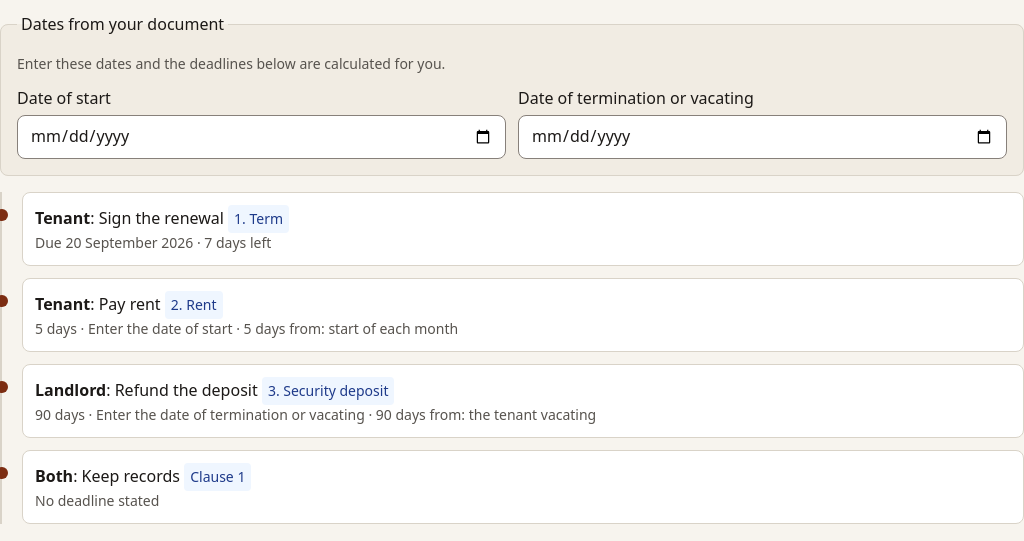
Test: Timeline › asks for anchor dates, computes deadlines once entered, and orders items
In the date field labelled "Date of termination or vacating": (762, 137) x1=518 y1=115 x2=1007 y2=159, type "2026-09-01"
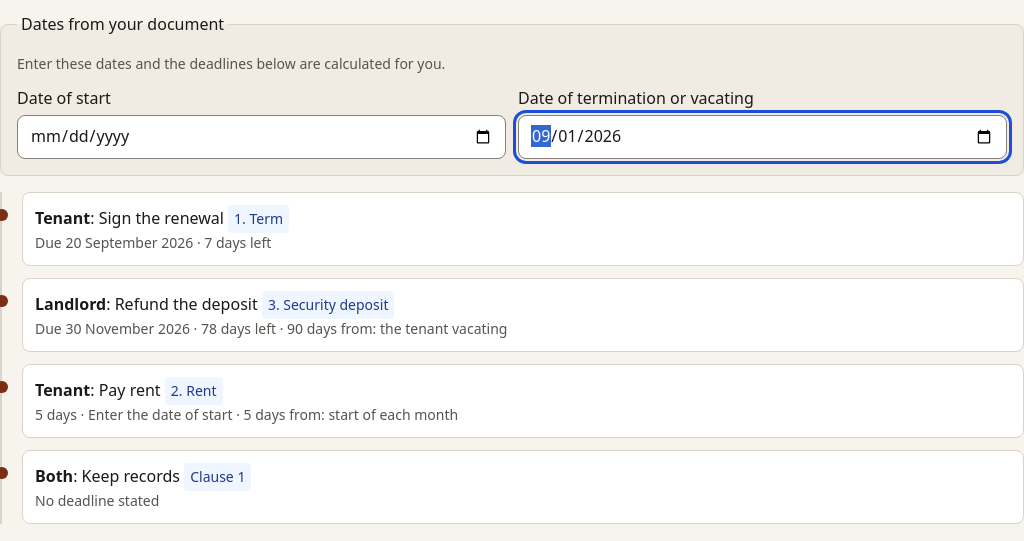
Clear the date field labelled "Date of termination or vacating": (762, 137) x1=518 y1=115 x2=1007 y2=159
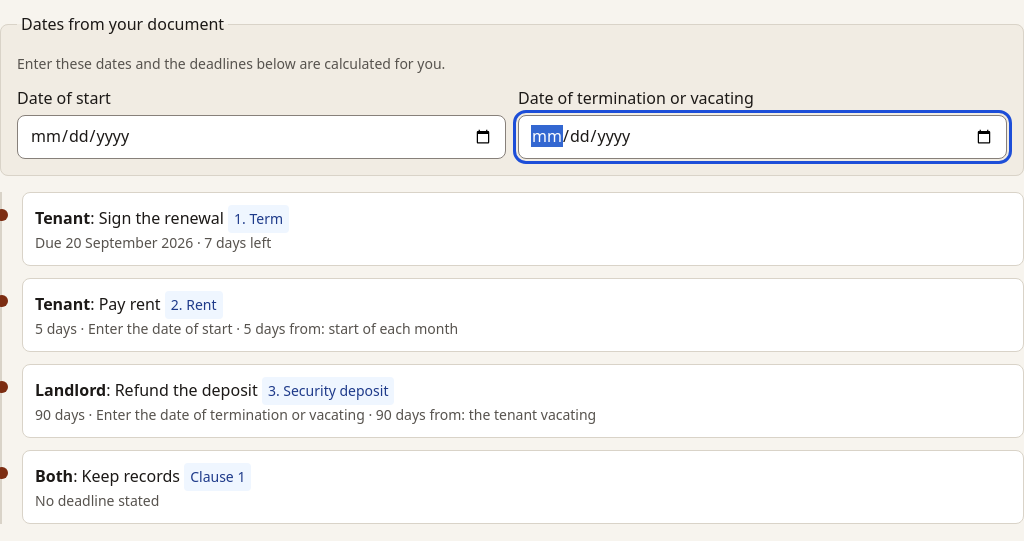
expect the 2nd list item shows "Enter the date of": met, box x1=88 y1=319 x2=198 y2=338
